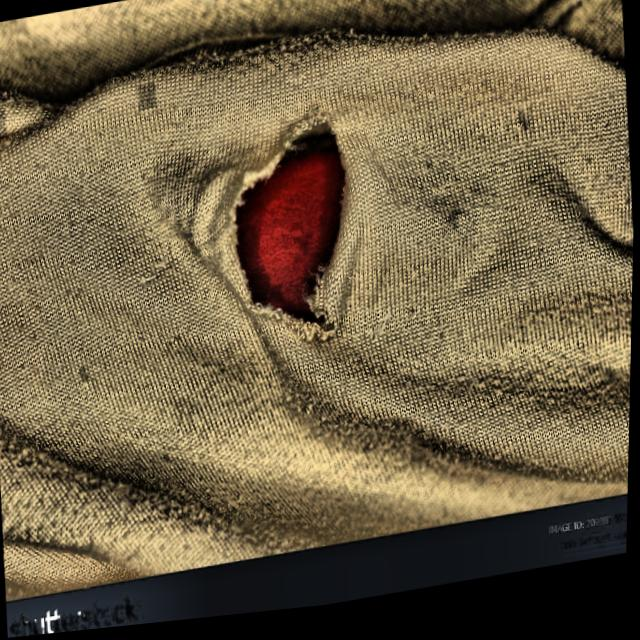Hole: (204, 100, 392, 382)
